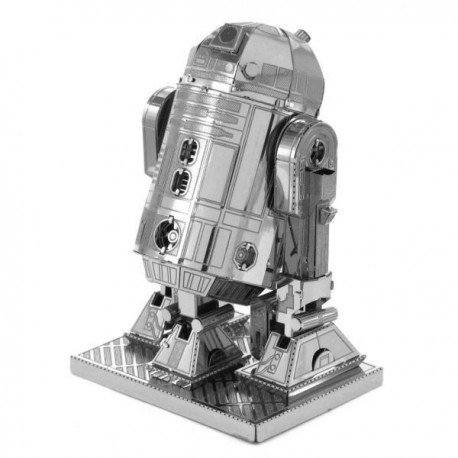r2d2: (125, 21, 365, 393)
